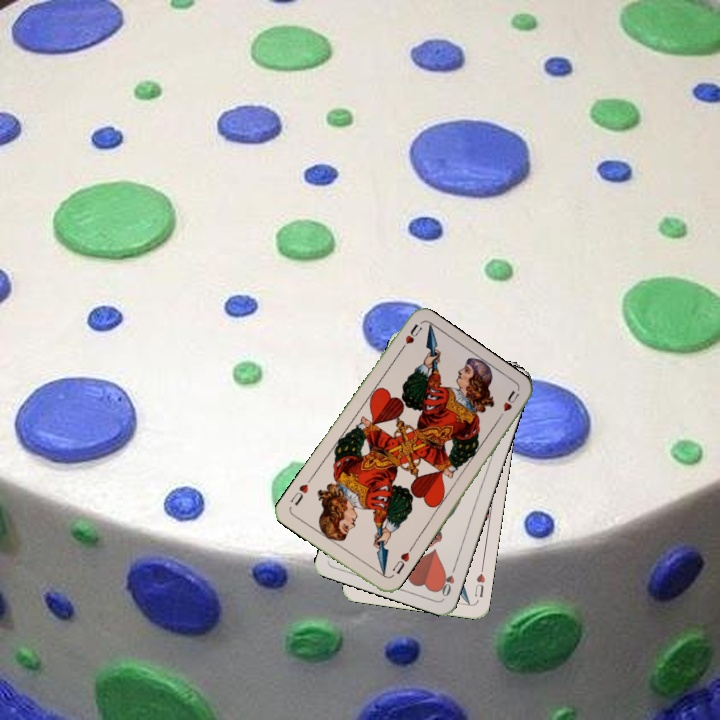HO: (435, 561, 459, 599)
HU: (395, 320, 424, 356), (388, 544, 414, 577), (470, 569, 488, 600)
